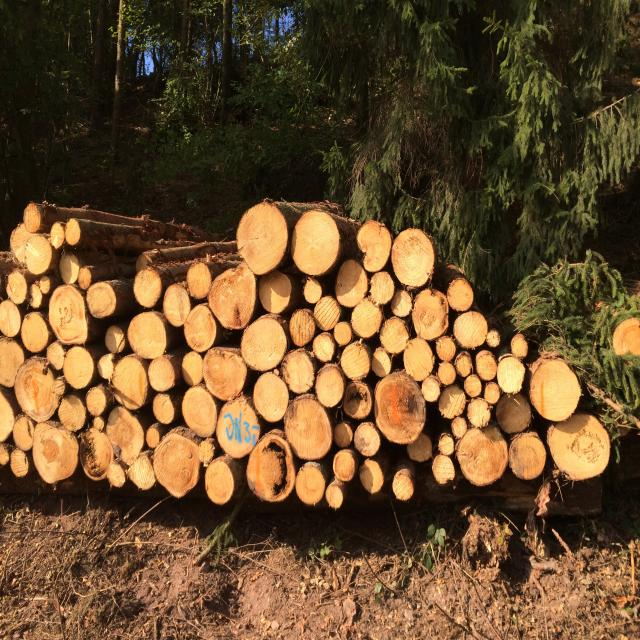wood-log: (546, 414, 608, 479), (376, 368, 429, 442), (235, 203, 289, 274), (207, 264, 259, 330), (294, 212, 344, 278), (282, 396, 332, 462), (153, 429, 201, 497), (530, 358, 583, 419), (13, 358, 61, 423), (31, 420, 78, 484), (458, 427, 508, 486), (216, 396, 261, 459), (390, 228, 436, 288), (243, 317, 290, 372), (48, 285, 88, 346), (203, 348, 248, 402), (249, 441, 288, 499), (114, 355, 152, 410), (11, 228, 53, 276), (127, 311, 168, 358), (356, 220, 392, 273), (253, 371, 290, 422), (412, 289, 448, 341), (183, 385, 219, 435), (108, 406, 146, 453), (510, 431, 546, 480), (182, 304, 218, 352), (334, 259, 369, 308), (495, 394, 533, 436), (259, 270, 295, 313), (283, 348, 317, 393), (403, 338, 436, 382), (316, 364, 348, 408), (204, 458, 233, 506), (62, 346, 94, 389), (349, 298, 382, 338), (165, 281, 194, 326), (297, 462, 328, 504), (454, 312, 488, 350), (21, 310, 51, 353), (0, 337, 25, 386), (614, 315, 640, 361), (340, 341, 371, 379), (381, 319, 412, 356), (133, 269, 162, 308), (497, 354, 525, 394), (58, 392, 87, 430), (85, 282, 115, 318), (147, 355, 175, 393), (353, 419, 380, 457), (290, 308, 317, 346), (439, 384, 468, 419), (130, 451, 156, 489), (342, 390, 372, 422), (313, 296, 340, 331), (4, 270, 29, 306), (0, 389, 16, 445), (448, 278, 475, 311), (373, 270, 397, 306), (360, 460, 384, 494), (468, 396, 493, 428), (334, 449, 358, 482), (408, 434, 434, 464), (0, 300, 21, 337), (87, 383, 109, 417), (12, 418, 34, 452), (313, 332, 337, 363), (153, 392, 176, 424), (182, 350, 203, 385), (431, 454, 454, 484), (476, 350, 498, 380), (394, 469, 414, 501), (421, 373, 442, 402), (9, 448, 29, 478), (374, 348, 394, 378), (436, 335, 458, 362), (47, 342, 67, 371), (304, 276, 324, 304), (107, 458, 126, 487), (335, 420, 353, 449), (107, 326, 124, 356), (333, 322, 353, 347), (469, 373, 489, 398), (98, 352, 115, 380), (146, 422, 163, 449), (464, 374, 482, 399), (326, 483, 343, 509), (438, 363, 456, 386), (513, 334, 530, 358), (67, 218, 82, 245), (456, 350, 471, 376), (485, 380, 502, 402), (452, 416, 469, 438), (77, 268, 93, 289), (486, 332, 501, 349), (0, 444, 9, 466)
